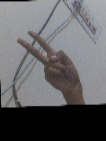hand: (16, 28, 81, 97)
